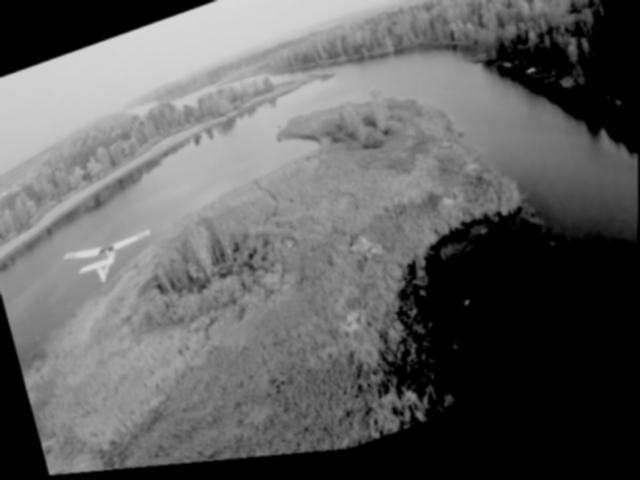hedef: (50, 217, 169, 302)
